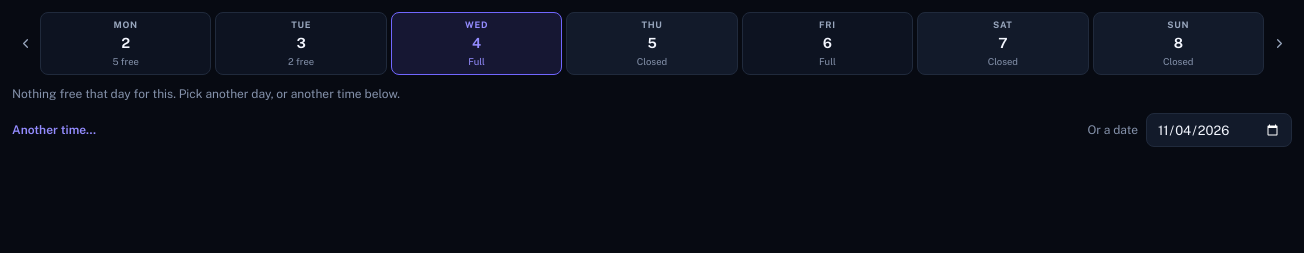
Test case: the free-time picker › says when a day has nothing free, and offers another time
The width and height of the screenshot is (1304, 253).
Click the button with class "btn-link". click: (54, 130)
box: [12,121,96,139]
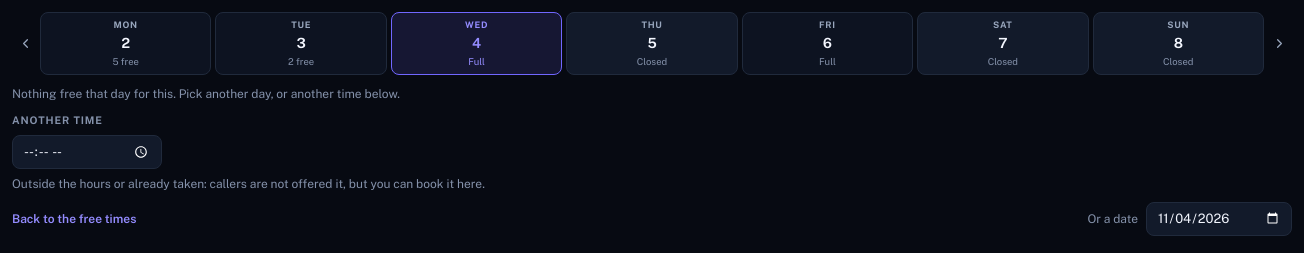
Check: the time field is shown, box [12,135,162,169]
